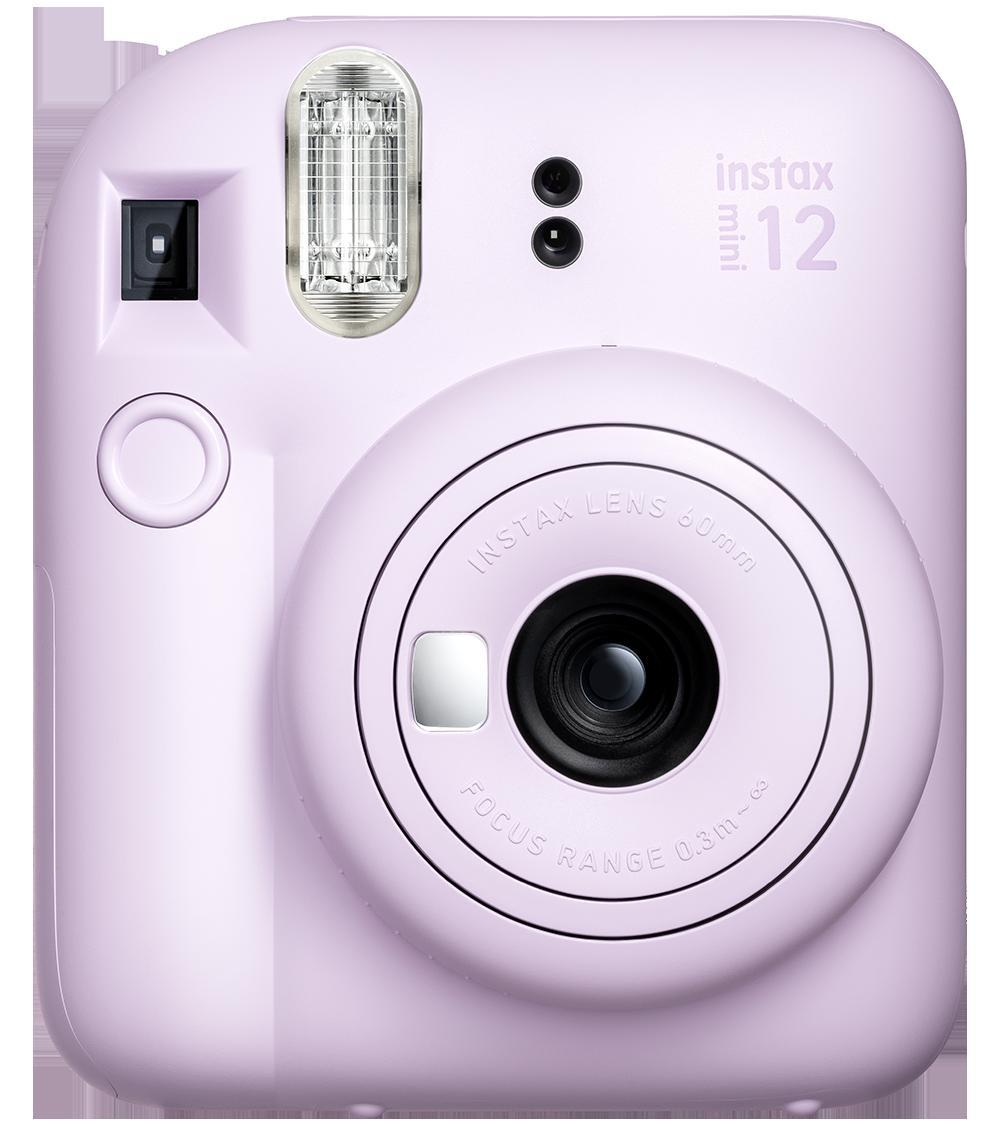degital-camera: (24, 0, 978, 1124)
